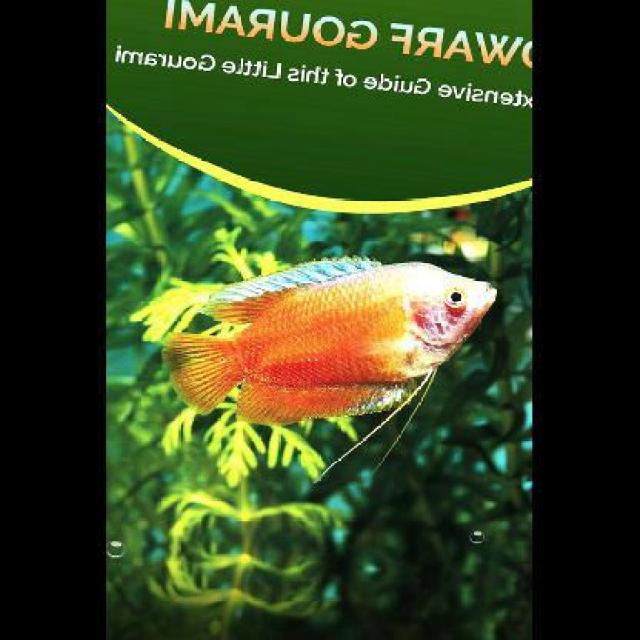Gourami: (165, 248, 503, 422)
